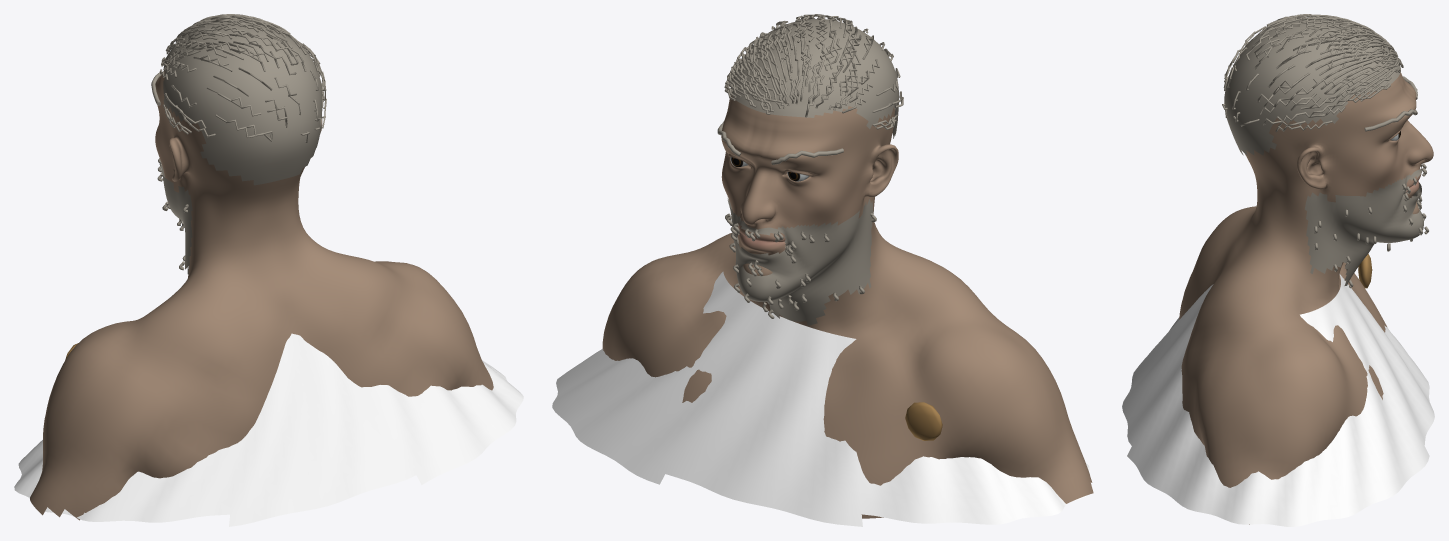
The model's file is envoy_027.glb.
3 views of the same model, side by side, from view 1: azimuth 30°, elevation 25°; view 2: azimuth 150°, elevation 25°; view 3: azimuth 270°, elevation 25° (orthographic). The views are drawn at different scales.
Parts seen in each view (by area): view 1: Envoy 027 body, Folded shoulder mantle, Envoy 027 fitted scalp, Envoy 027 fitted beard; view 2: Envoy 027 body, Folded shoulder mantle, Envoy 027 fitted beard, Envoy 027 fitted scalp, Shoulder clasp; view 3: Envoy 027 body, Folded shoulder mantle, Envoy 027 fitted scalp, Envoy 027 fitted beard.
Boxes of the visible parts, bbox=[...] form: Envoy 027 body: bbox=[30, 70, 493, 520]; Folded shoulder mantle: bbox=[14, 333, 523, 526]; Envoy 027 fitted scalp: bbox=[163, 19, 322, 185]; Envoy 027 fitted beard: bbox=[160, 161, 192, 274]; Envoy 027 body: bbox=[602, 95, 1093, 518]; Folded shoulder mantle: bbox=[552, 271, 1089, 526]; Envoy 027 fitted beard: bbox=[727, 198, 873, 325]; Envoy 027 fitted scalp: bbox=[730, 19, 898, 138]; Shoulder clasp: bbox=[905, 402, 942, 440]; Envoy 027 body: bbox=[1179, 72, 1433, 524]; Folded shoulder mantle: bbox=[1122, 274, 1434, 526]; Envoy 027 fitted scalp: bbox=[1224, 19, 1400, 155]; Envoy 027 fitted beard: bbox=[1305, 165, 1423, 285].
Bounding box in the file's own units: 0.3039 × 0.2464 × 0.1768.
